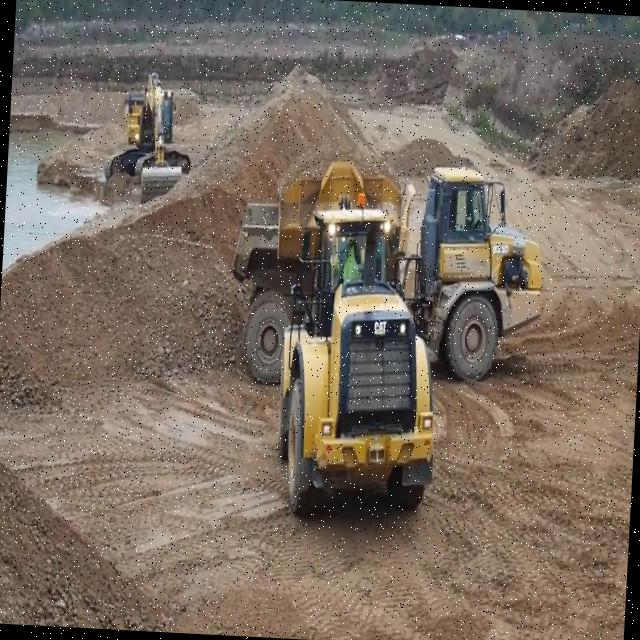Dump Truck: (224, 146, 552, 404)
Excavator: (100, 64, 196, 207)
Loader: (261, 148, 454, 527)
